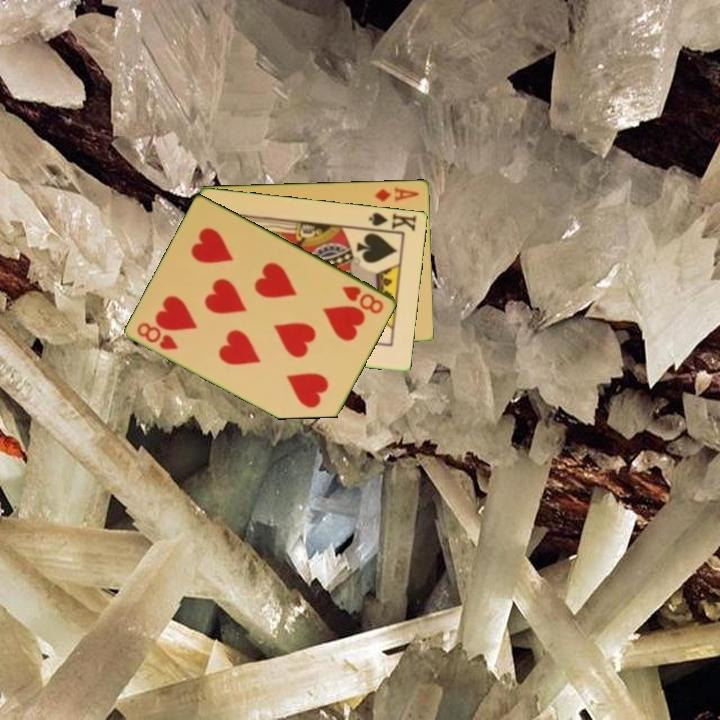8h: (339, 282, 387, 317), (134, 319, 181, 353)
Ad: (372, 183, 422, 204)
Ks: (365, 208, 420, 234)
